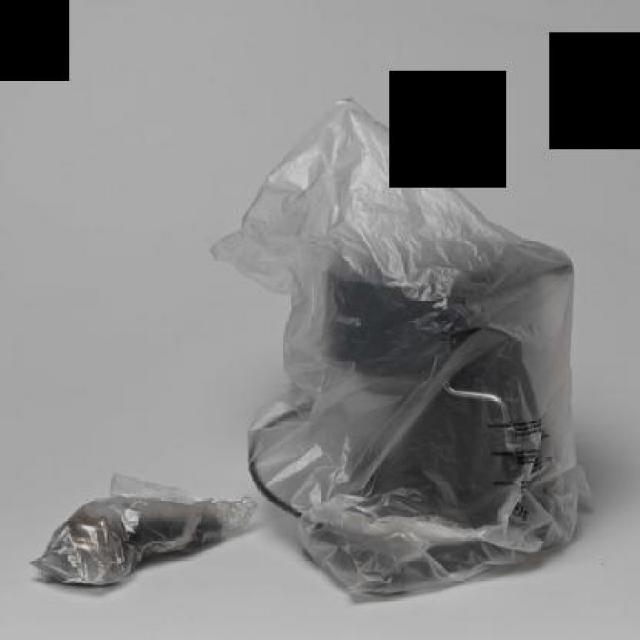plastic bag: (208, 93, 592, 602), (25, 472, 260, 592)
